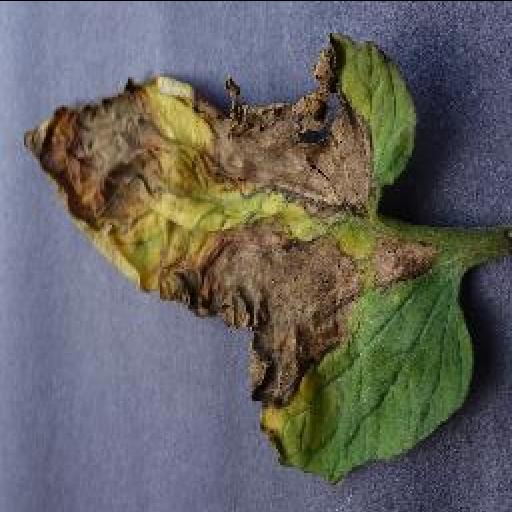disease_tomato: (18, 27, 478, 489)
